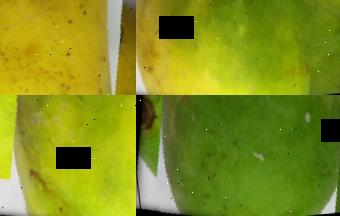PartiallyRipe: (136, 0, 340, 95), (0, 95, 136, 216)
Ripe: (0, 0, 136, 95)
Unripe: (136, 95, 340, 216)
